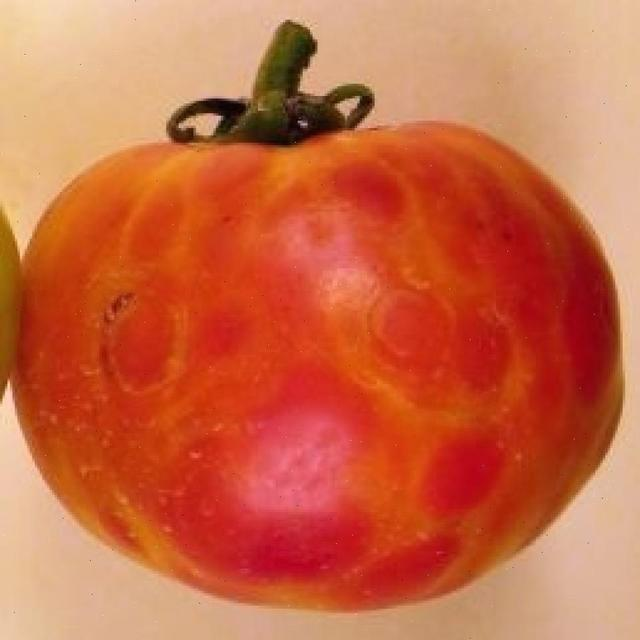Spotted wilt Virus Fruit: (8, 79, 416, 409)
